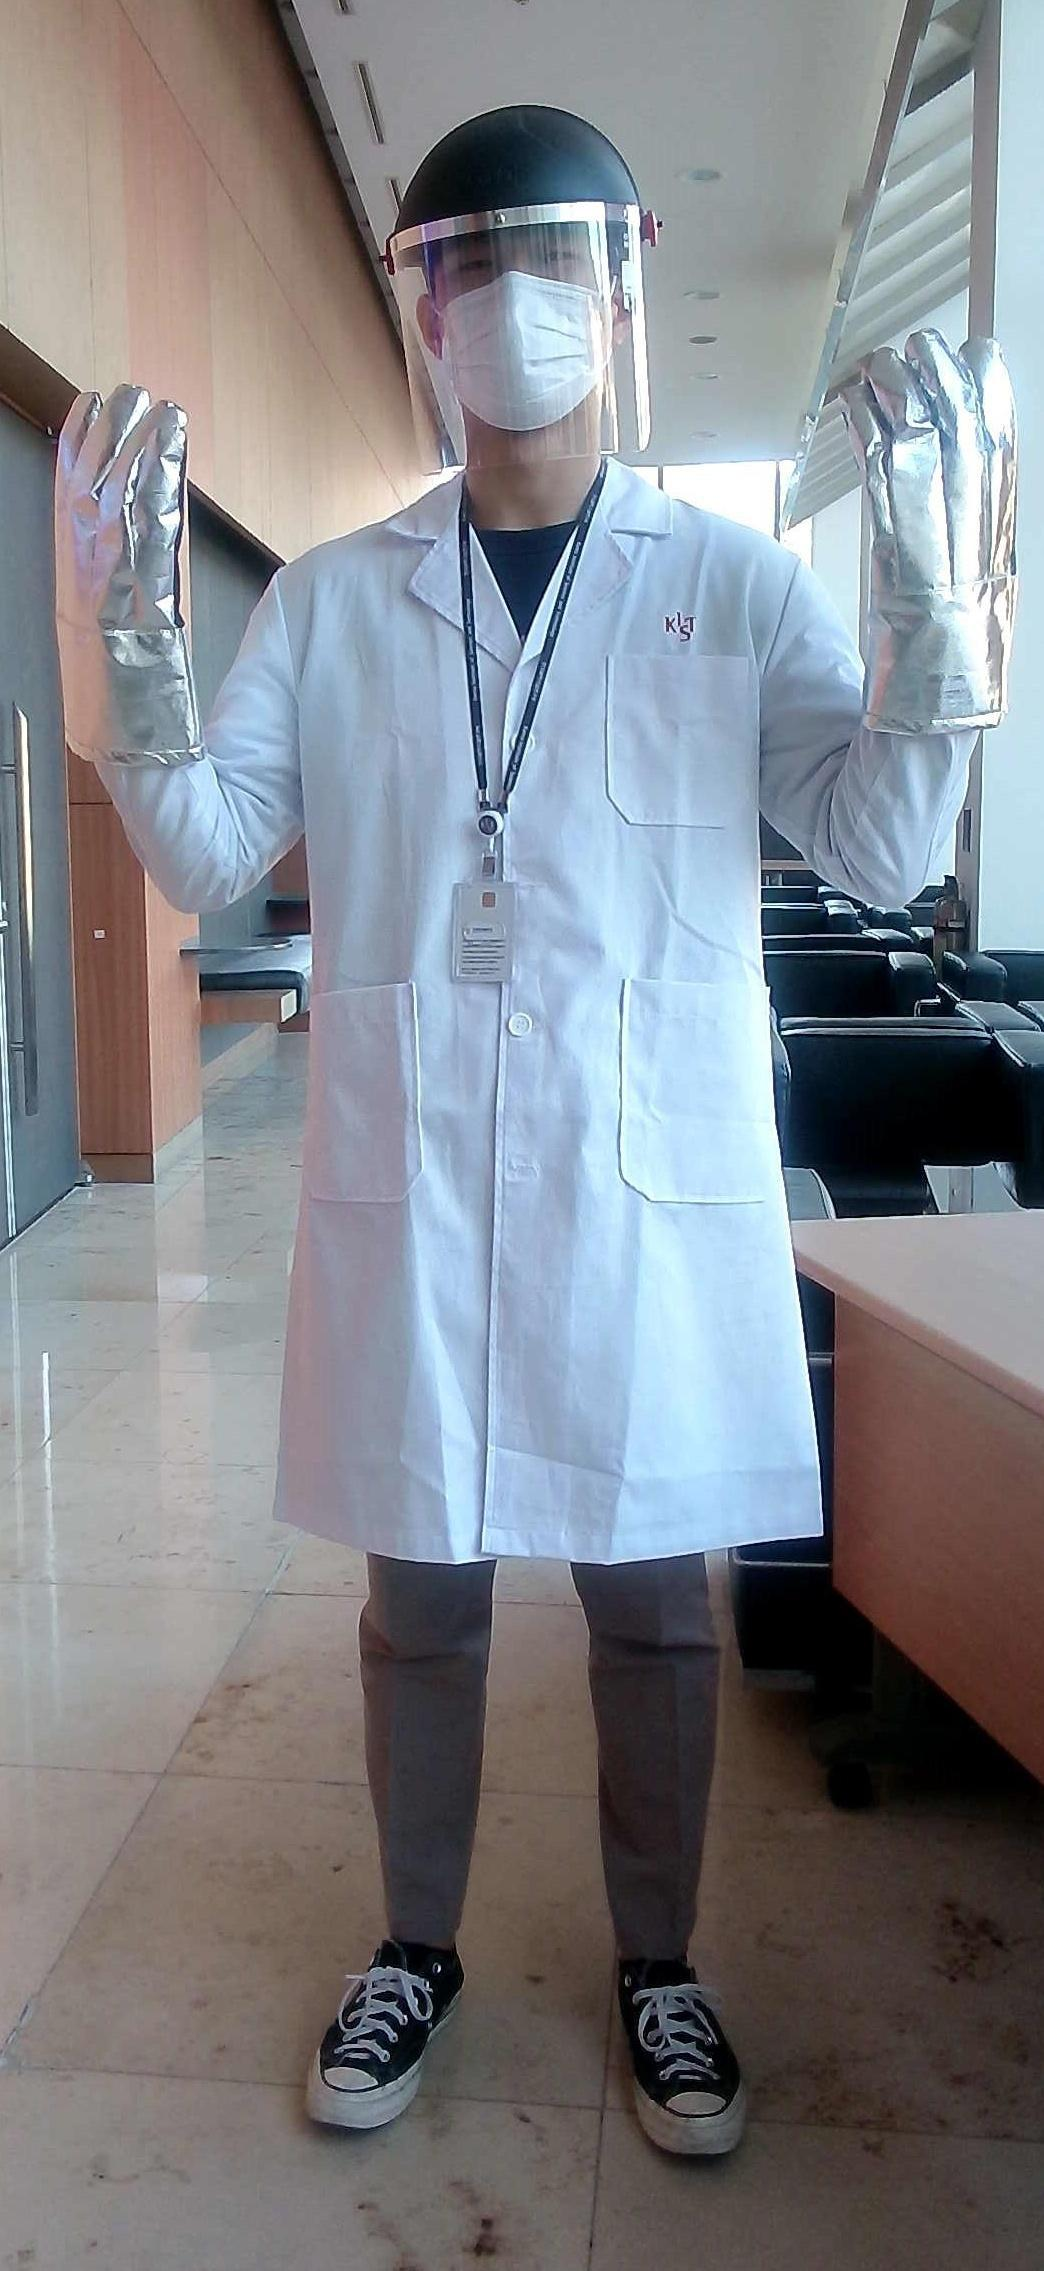lab_coat: (222, 487, 831, 1589)
